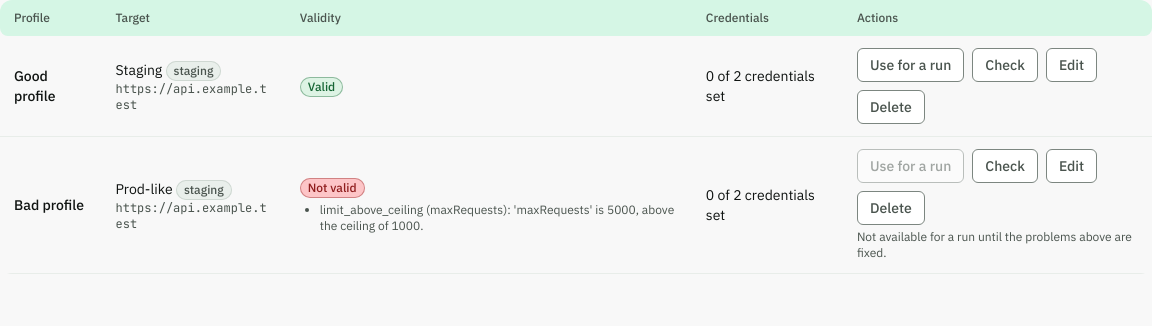
Test: ProfileList (T088, FR-034, FR-040) › shows a failed check with the blocked reason and its explanation, never as a pass
The width and height of the screenshot is (1152, 326).
Click the button with aria-label "Check Good profile": (1005, 65) [972,48,1038,82]
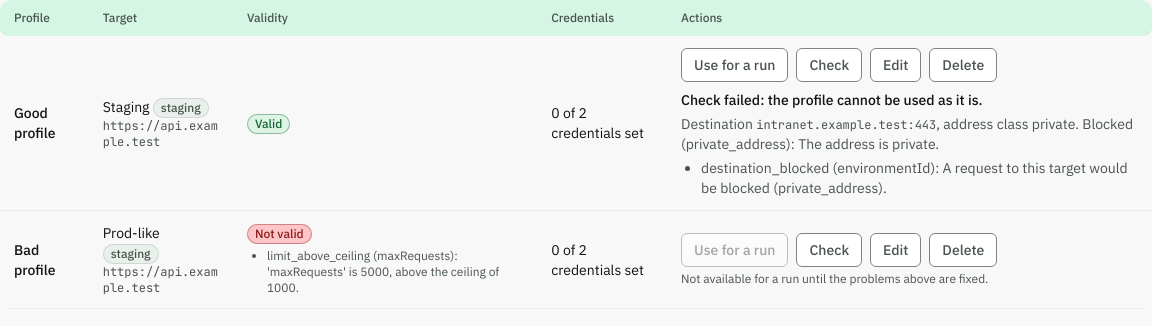
Expected: the element with test id "profile-check-result" shows "Check failed: the profile cannot be used as it is.", [681,91,983,109]
Expected: the element with test id "profile-check-result" shows "Blocked (private_address): The address is private.", [681,115,1133,153]
Expected: the list named "Problems found by the check" shows "destination_blocked (environmentId)", [701,159,1128,197]
